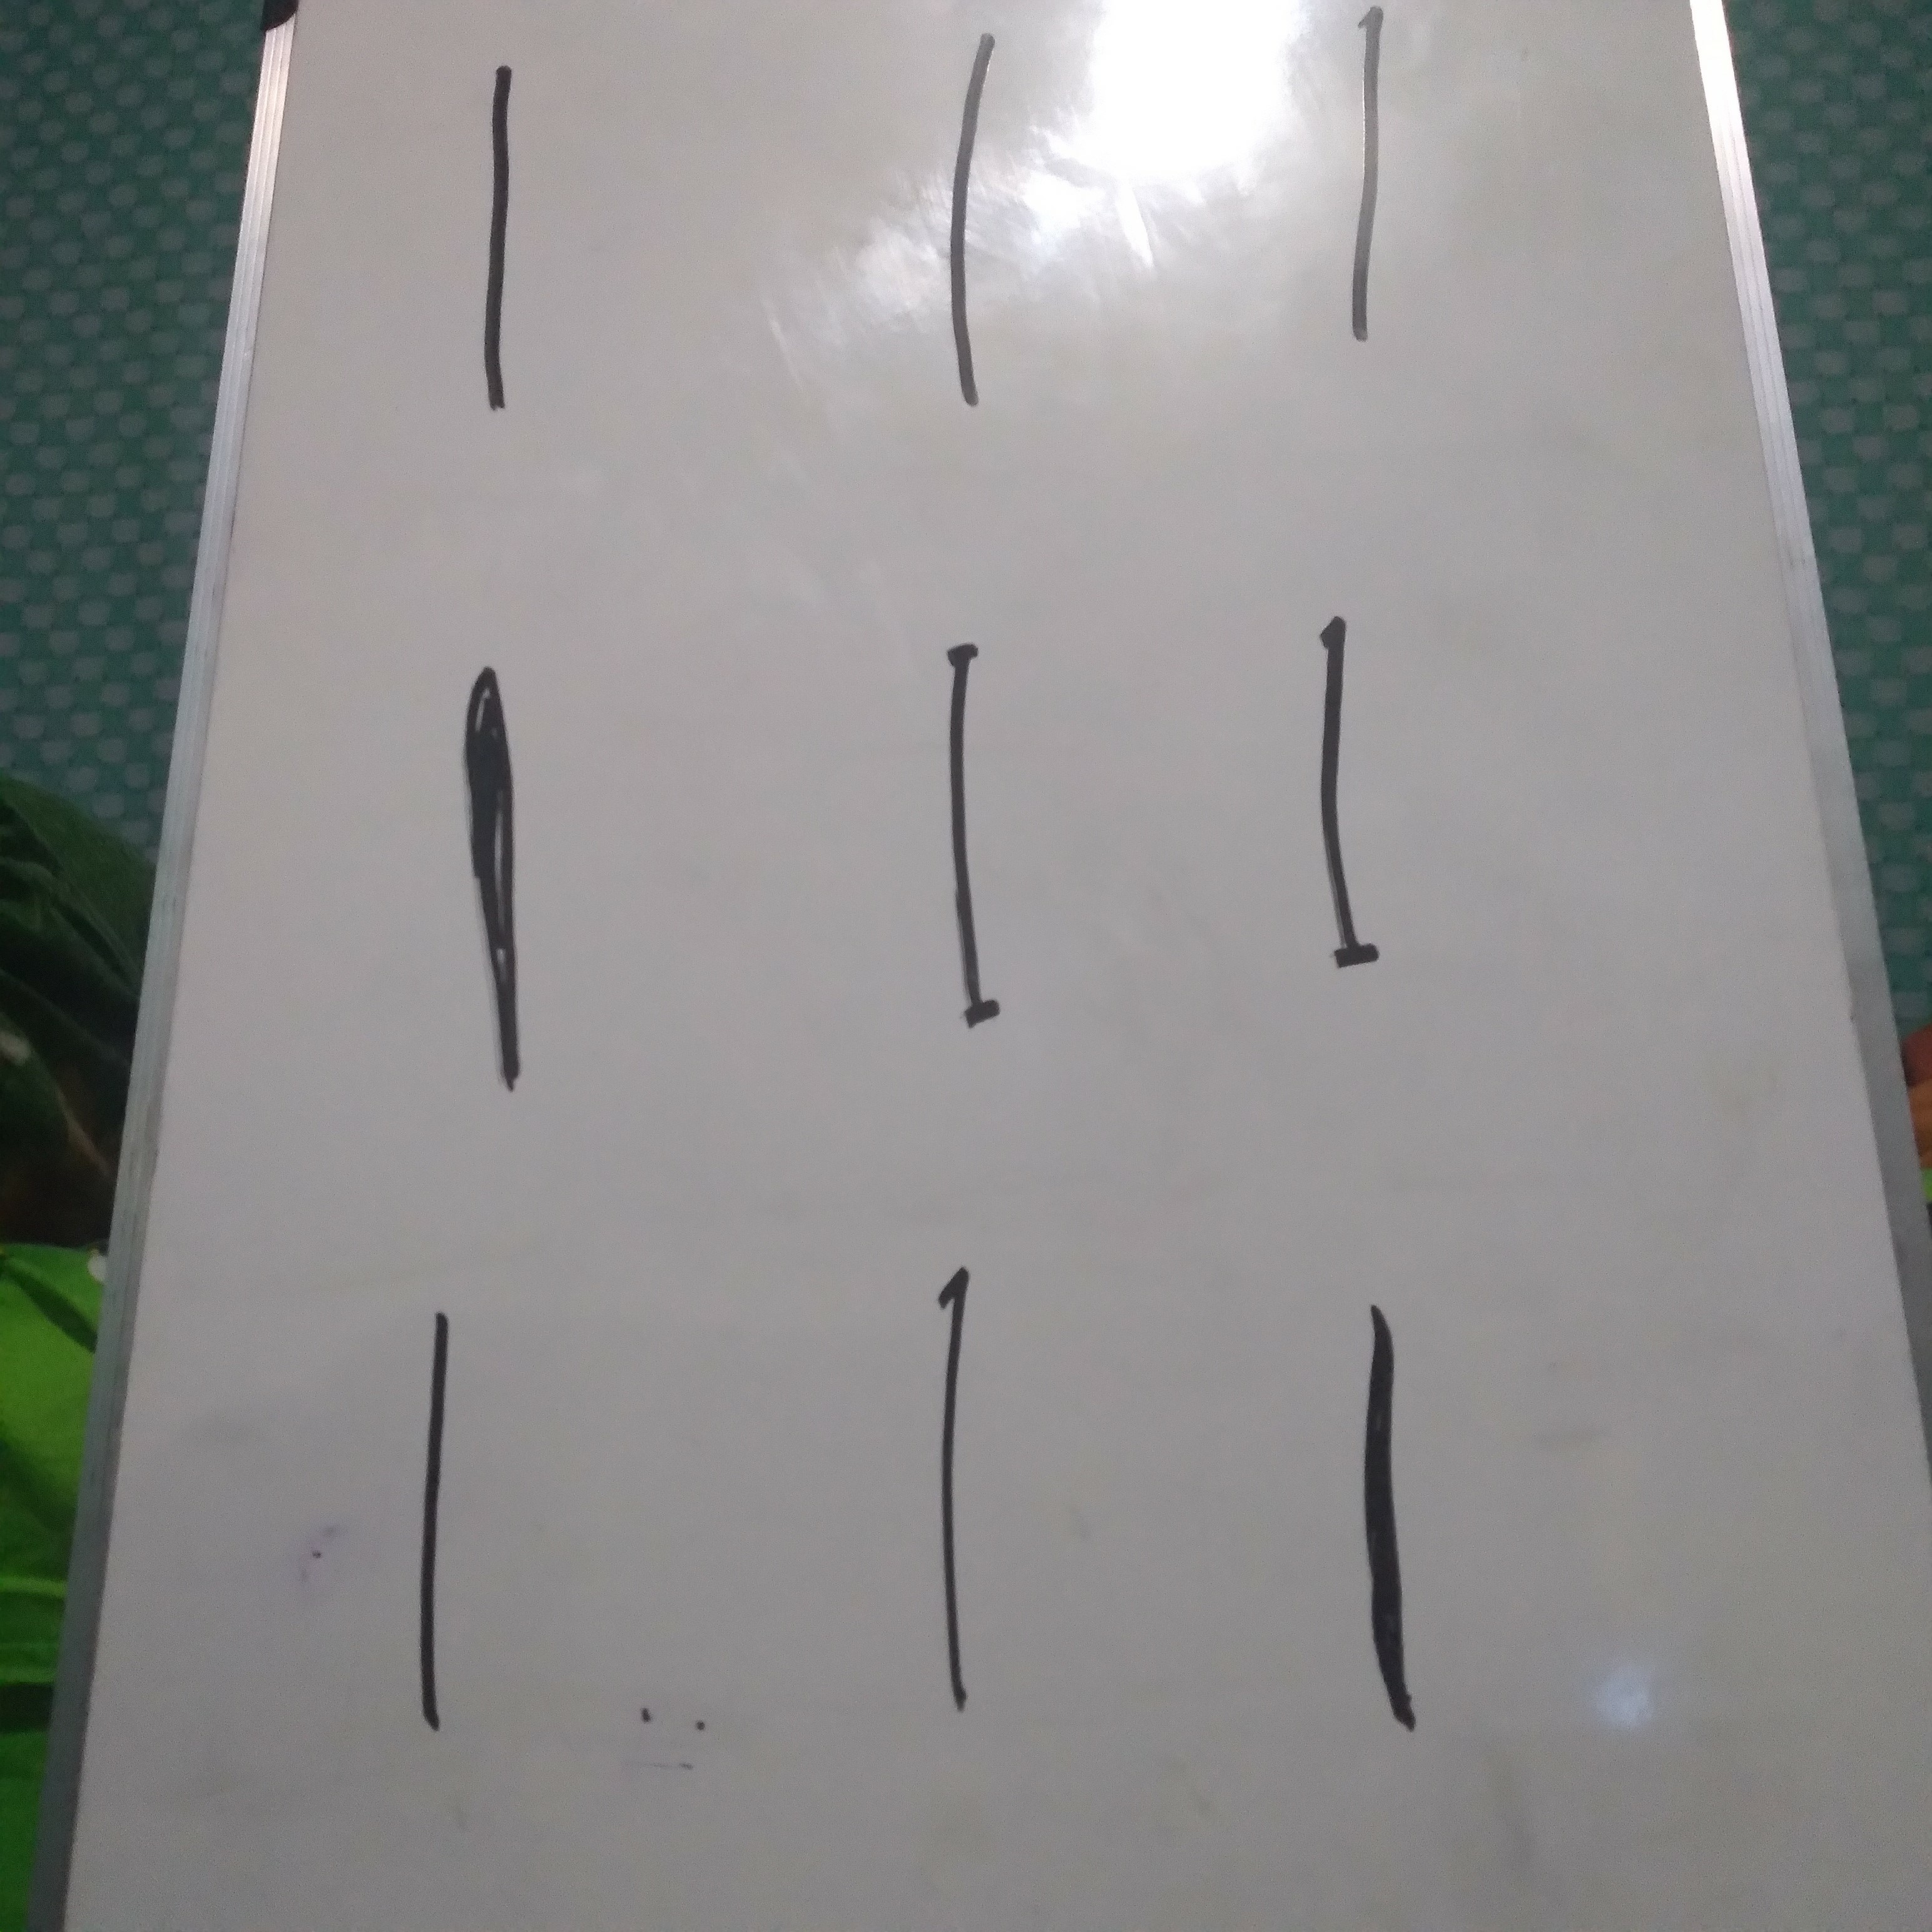num1: (928, 584, 1014, 1051), (381, 1299, 467, 1766), (1306, 569, 1392, 1035), (451, 652, 537, 1119), (1345, 1275, 1430, 1742), (911, 1252, 997, 1719), (935, 29, 1011, 420), (462, 43, 539, 435), (1331, 1, 1407, 392)
